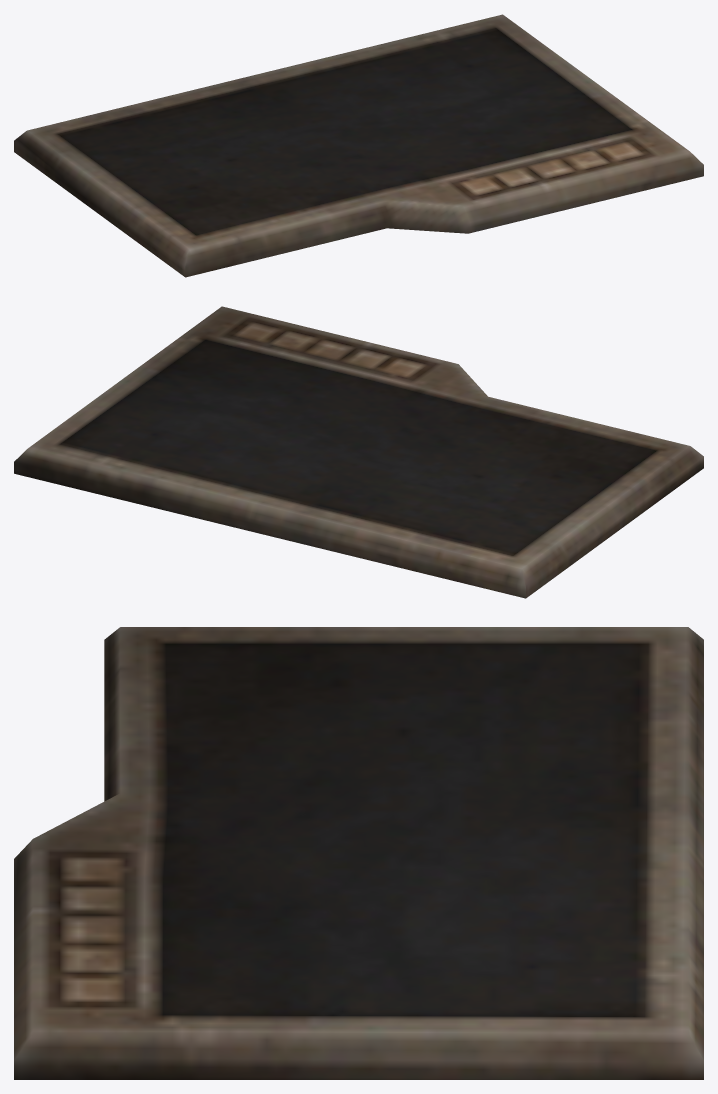
Rendered from computer_parts_readout_flat.dae.
3 views of the same model, one above another, from view 1: azimuth 30°, elevation 25°; view 2: azimuth 150°, elevation 25°; view 3: azimuth 270°, elevation 25° (orthographic). The views are drawn at different scales.
Visible parts, largest first — view 1: readout_flat__2_; view 2: readout_flat__2_; view 3: readout_flat__2_.
Boxes of the visible parts, x1=… form: readout_flat__2_: x1=14, y1=14, x2=703, y2=277; readout_flat__2_: x1=14, y1=306, x2=703, y2=598; readout_flat__2_: x1=14, y1=627, x2=703, y2=1079.
Bounding box in the file's own units: 0.3558 × 0.0156 × 0.2467.
